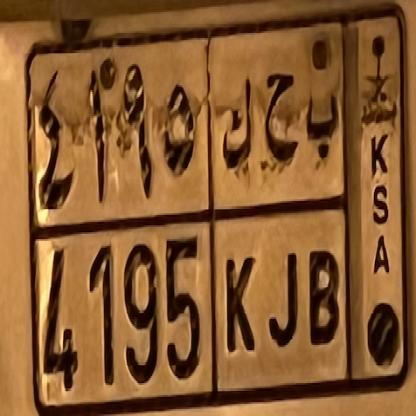english: (23, 206, 352, 397)
